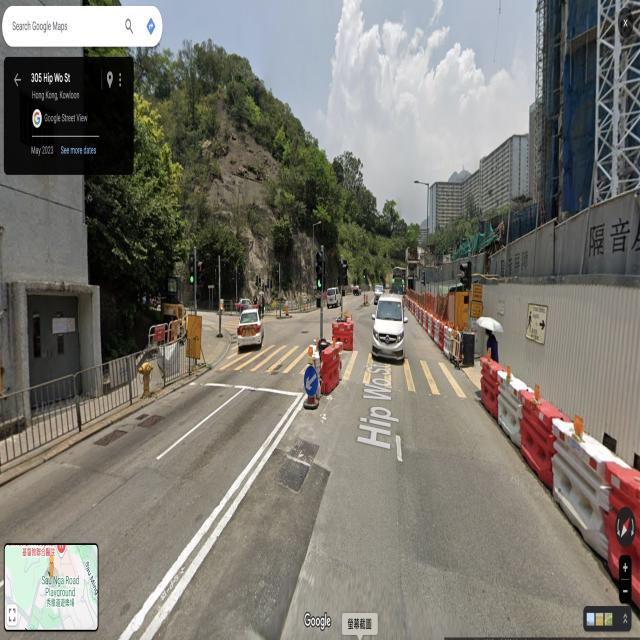Order-Sign: (304, 366, 318, 396)
